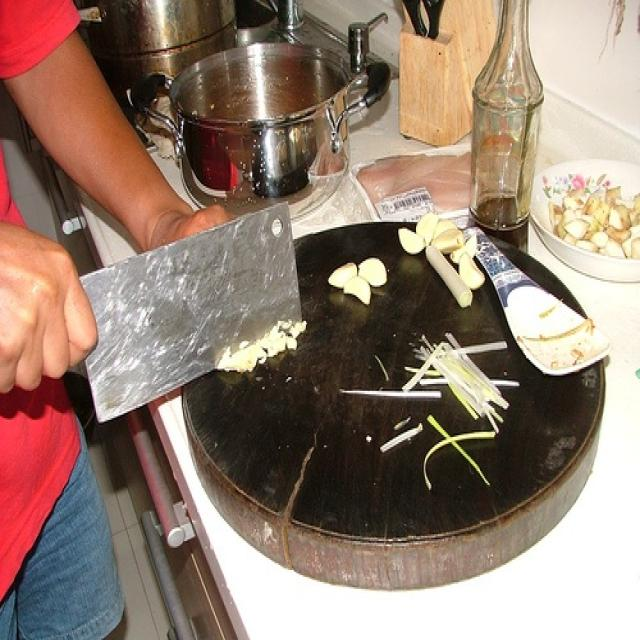bottle: (469, 1, 545, 254)
person: (1, 3, 239, 639)
